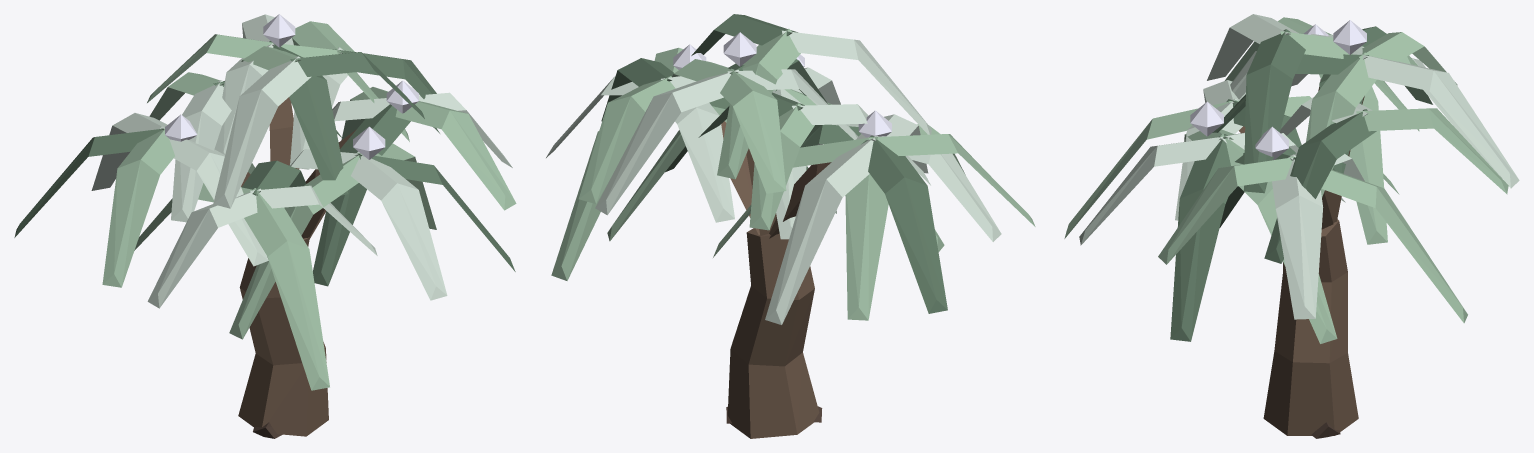
File: tree_anima_1.obj
The picture shows the model from 3 angles, left to right: view 1: azimuth 30°, elevation 25°; view 2: azimuth 150°, elevation 25°; view 3: azimuth 270°, elevation 25°; orthographic projection. The views are drawn at different scales.
Visible parts, largest first — view 1: tree_anima_1; view 2: tree_anima_1; view 3: tree_anima_1.
Boxes of the visible parts, x1,y1,x2,y2 form: tree_anima_1: (14,14,516,438); tree_anima_1: (546,14,1035,438); tree_anima_1: (1064,14,1519,438).
Bounding box in the file's own units: 1.23 × 1.03 × 1.05.
